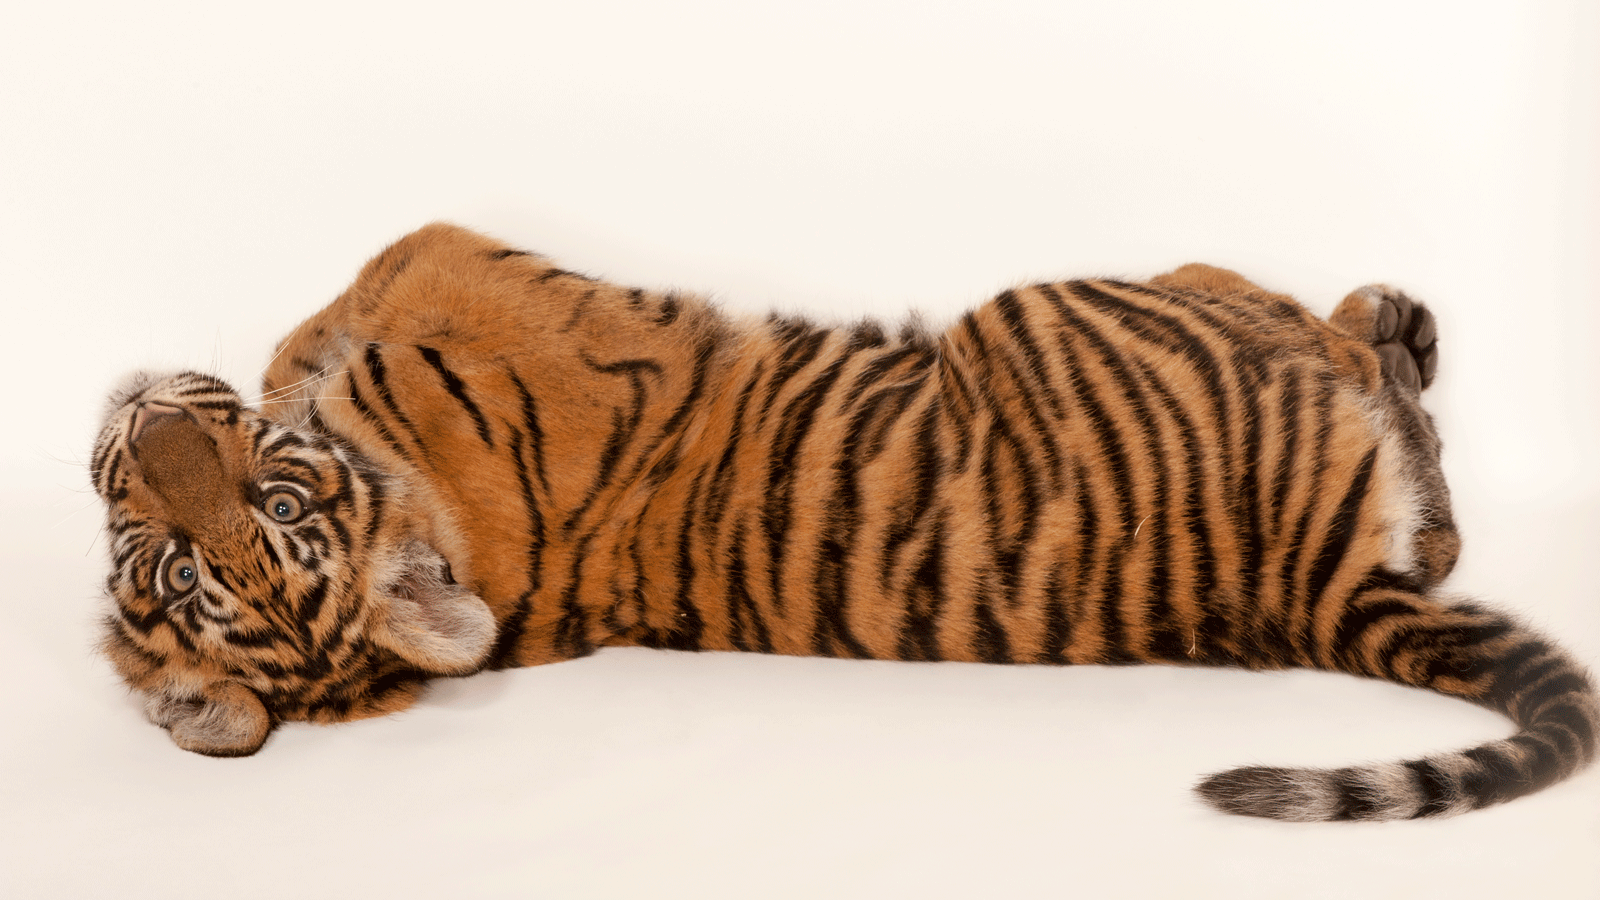Tiger: (78, 173, 1600, 862)
